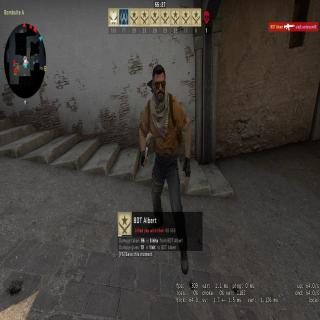T-Body: (136, 63, 195, 295)
T-Head: (150, 68, 168, 103)
